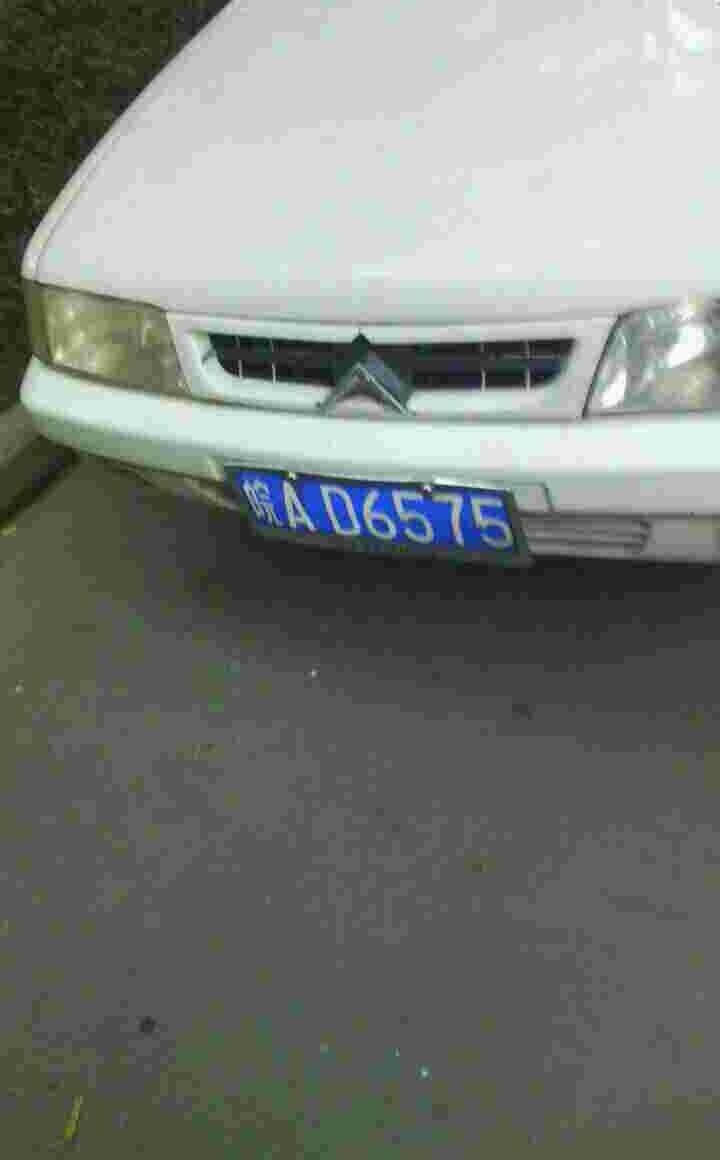license_plate: (241, 467, 519, 550)
